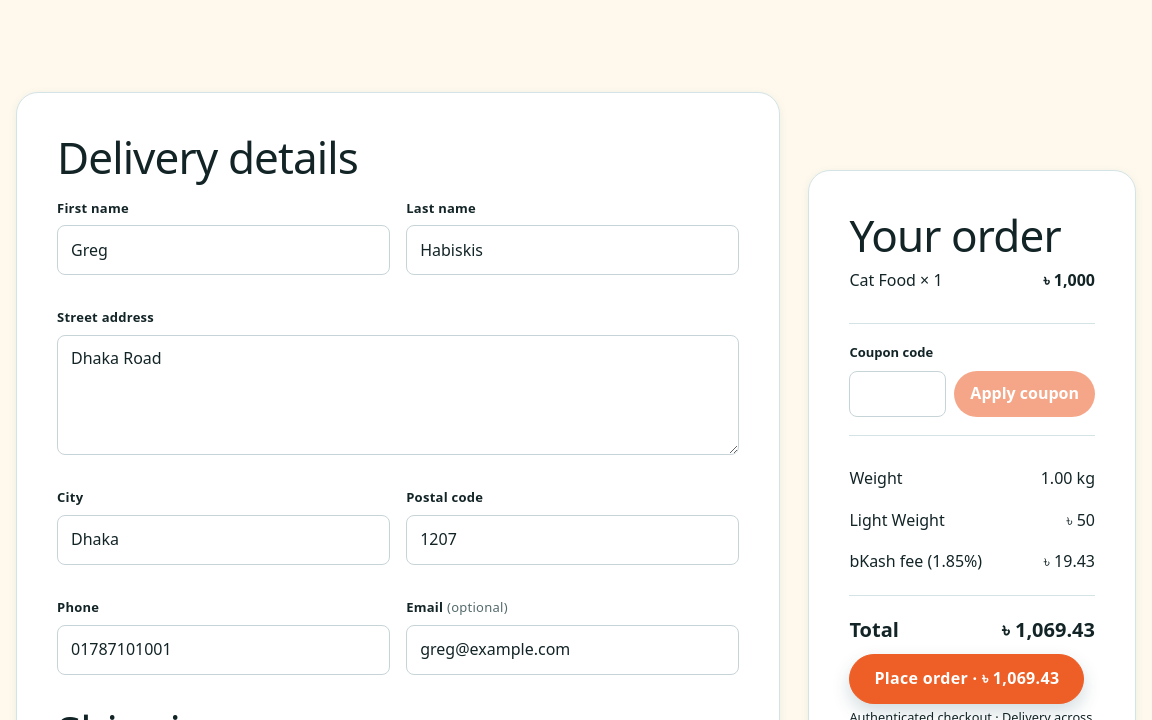
Test case: CheckoutForm coupons › applies and removes a server-validated coupon and recalculates bKash
Type " save10 " into the field labelled "Coupon code" at x=898, y=394, box [849,371,946,417]
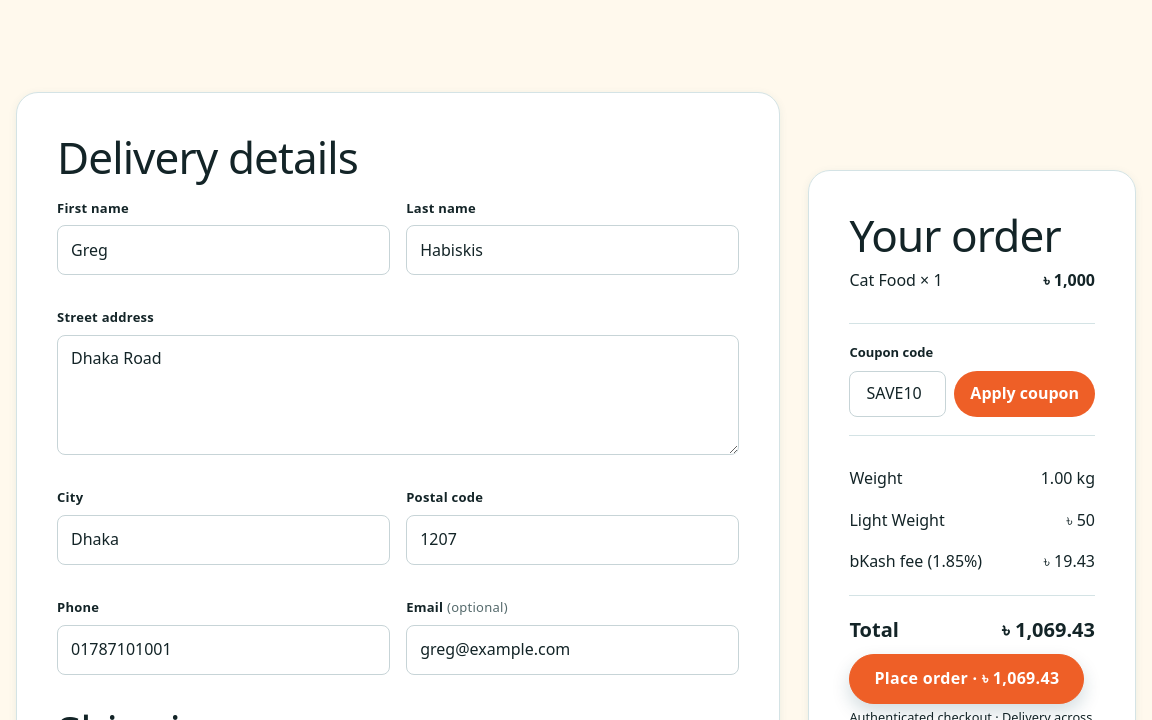
Click the button "Apply coupon" at x=1025, y=394, box [954,371,1095,417]
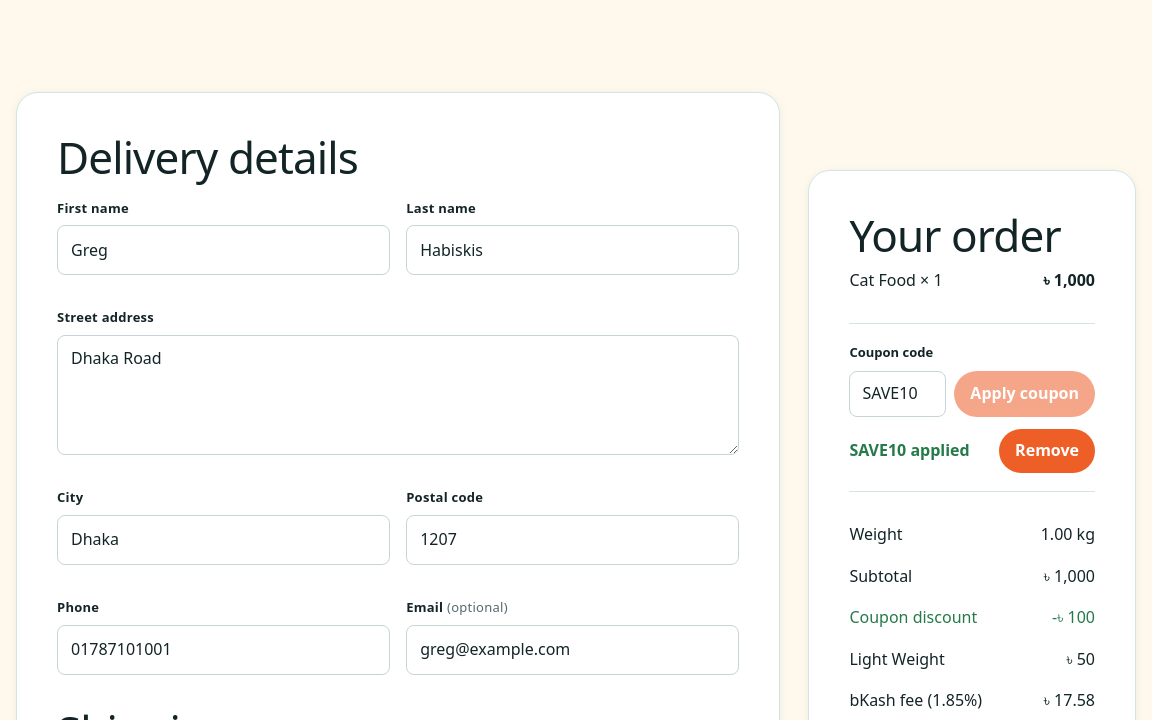
Now the message shows "SAVE10 applied", box [849,429,1095,473]
Now the text "-৳ 100" is shown, box [1052,605,1095,631]
Now the text "৳ 17.58" is shown, box [1044,688,1095,714]
Click the button with aria-label "Remove coupon" at x=1047, y=451, box [999,429,1095,473]
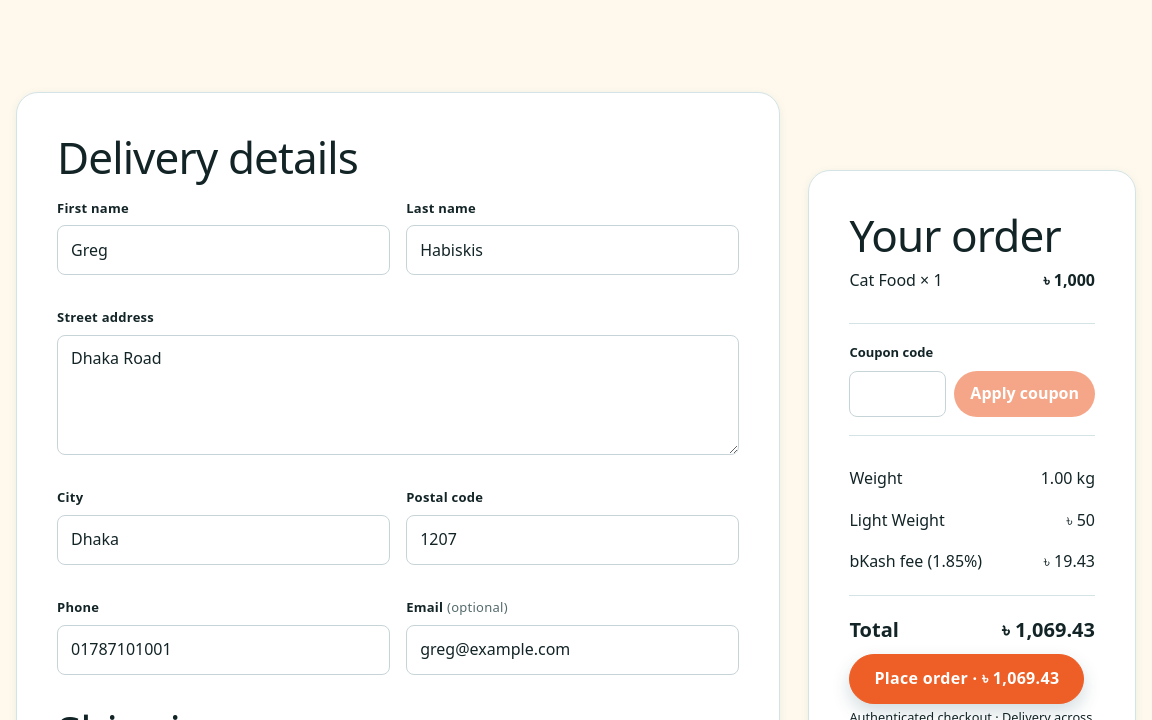
Now the text "-৳ 100" is gone
